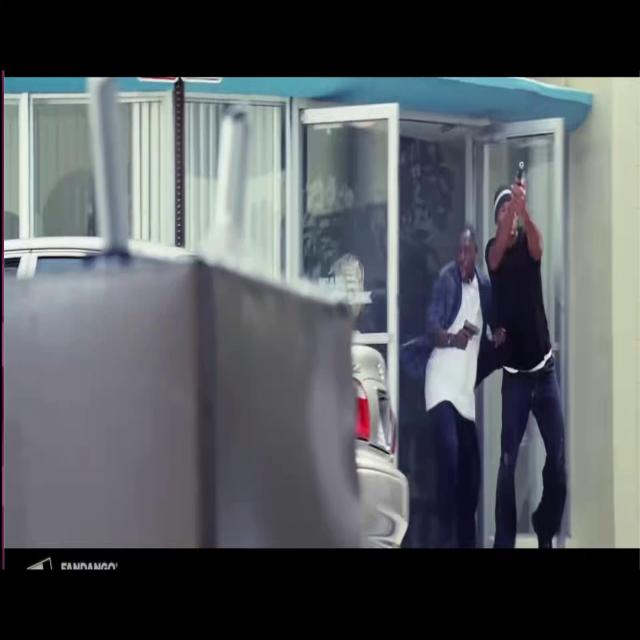weapons: (454, 305, 486, 360), (508, 150, 534, 207)
